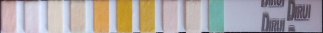color 1: (2, 2, 14, 31)
color 10: (210, 2, 222, 30)
color 2: (25, 3, 37, 31)
color 3: (49, 3, 61, 30)
color 4: (72, 2, 83, 30)
color 5: (95, 2, 107, 30)
color 6: (117, 2, 130, 30)
color 7: (141, 2, 153, 31)
color 8: (164, 2, 175, 31)
color 9: (187, 2, 199, 31)
